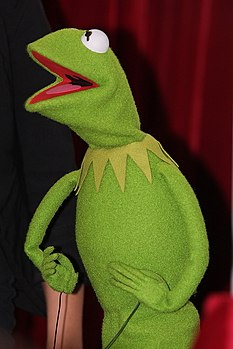kermit: (22, 26, 153, 147)
